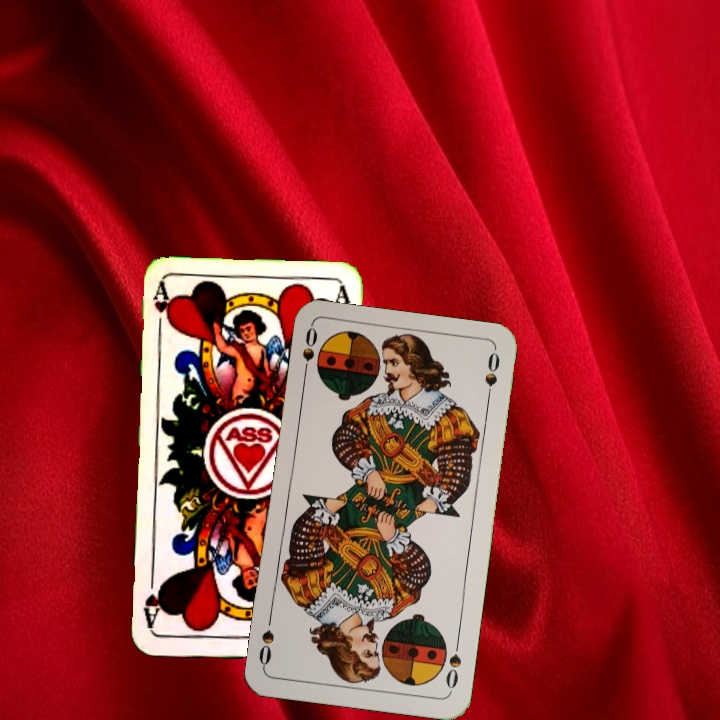HA: (148, 280, 176, 340)
SO: (442, 635, 464, 694), (298, 324, 320, 383)
